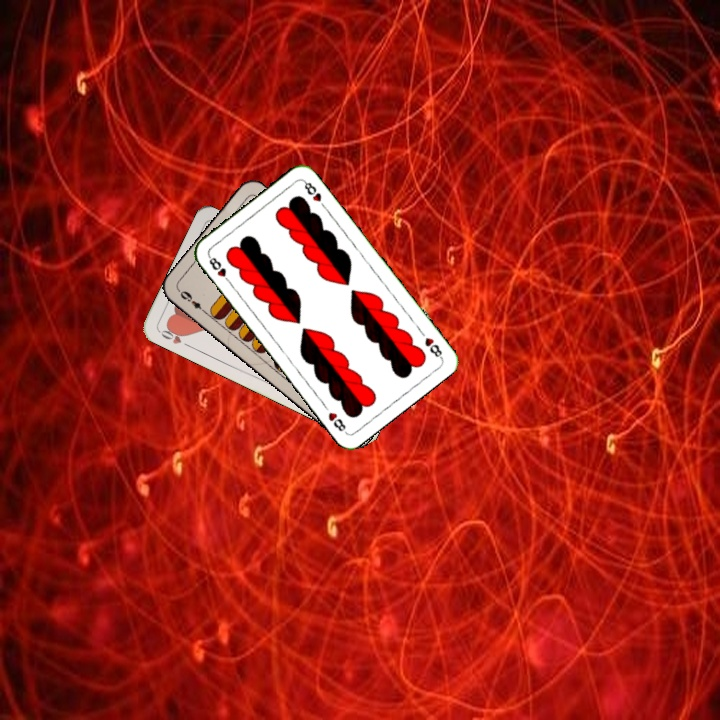E9: (175, 286, 209, 316)
H8: (204, 251, 234, 286), (421, 333, 445, 361)
HO: (155, 323, 193, 350)
